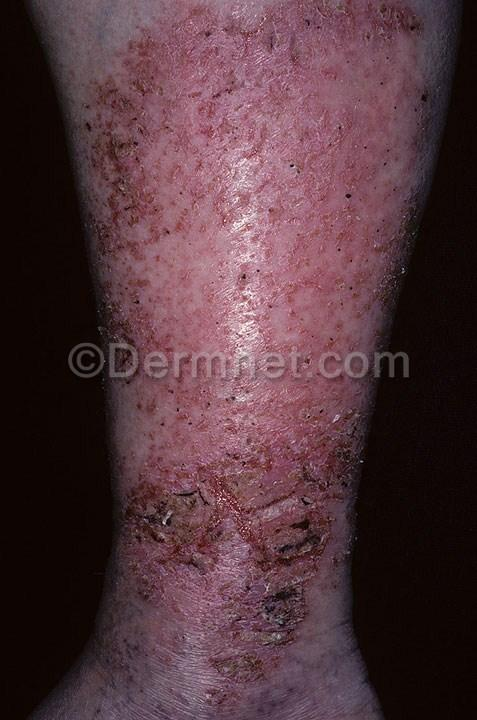Eczema: (67, 14, 438, 340), (117, 385, 365, 686)
